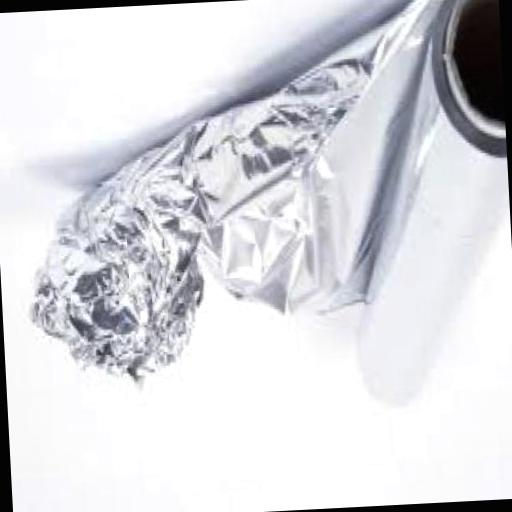metal: (11, 0, 512, 423)
